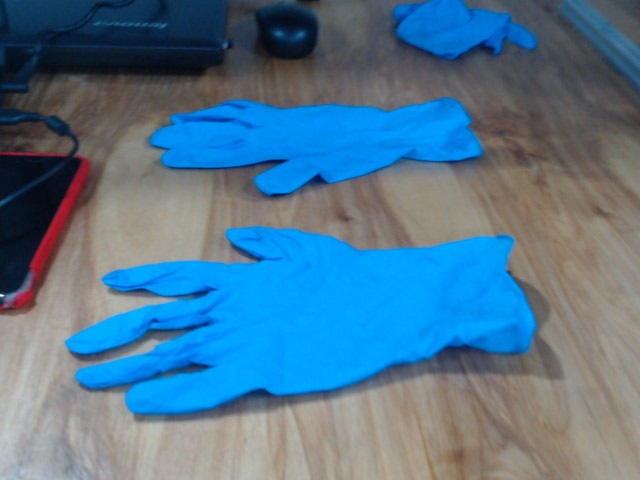medical_glove: (63, 225, 536, 414), (150, 100, 484, 194)
